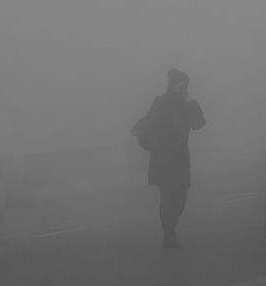person: (130, 66, 209, 250)
